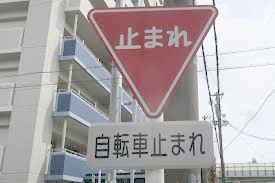Regulatory_sign_triangle: (85, 4, 229, 123)
